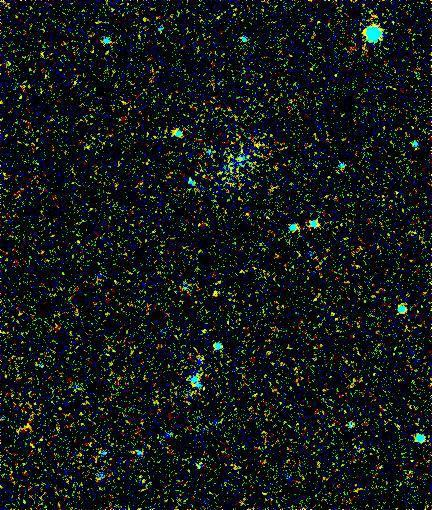star: (199, 279, 229, 309)
